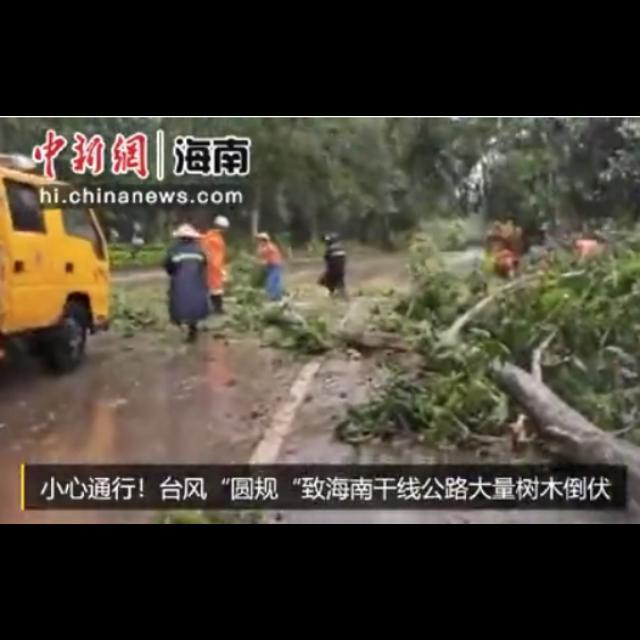fallen_tree: (284, 248, 640, 514)
